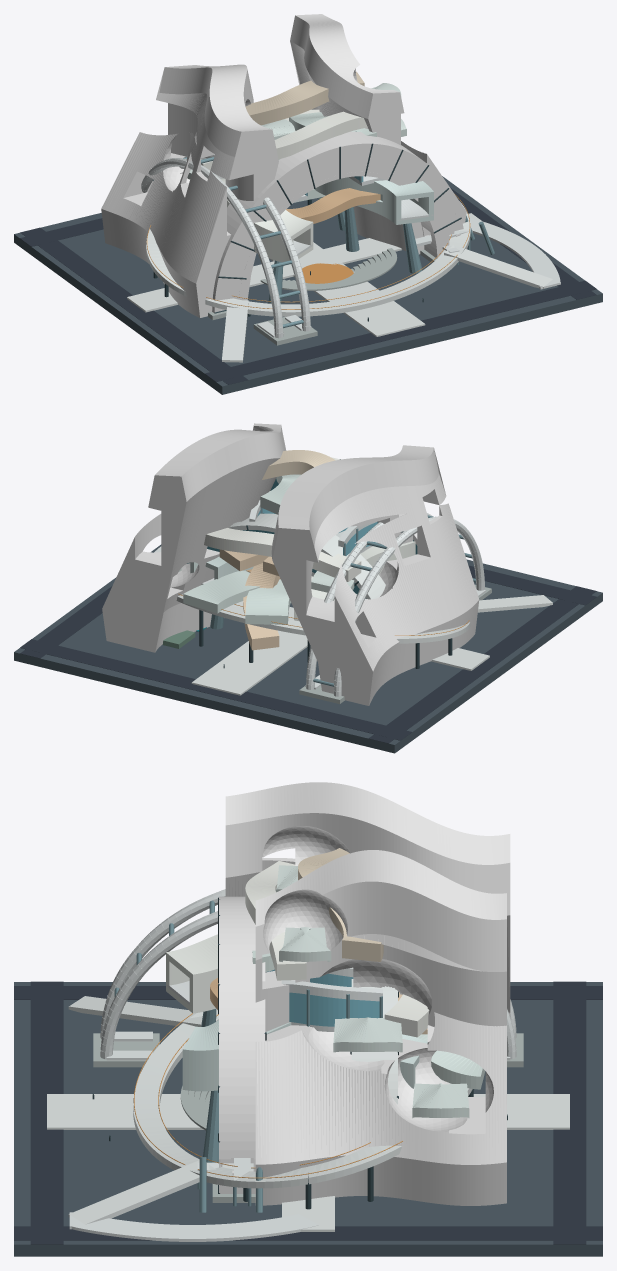
File: a12_exposed_atrium_canyon.glb
3 views of the same model, one above another, from view 1: azimuth 30°, elevation 25°; view 2: azimuth 150°, elevation 25°; view 3: azimuth 270°, elevation 25° (orthographic). The views are drawn at different scales.
Parts seen in each view (by area): view 1: District base, A11_WEST_FAULT_ESCARPMENT_REAL_VOID, A11_EAST_SKY_FOLD_REAL_VOID, SOUTH continuous glazed occupied band_A9_FLARED, Continuous elliptical public promenade, E-W road, SOUTH outer load shell_A7_PORTAL_A9_FLARED, N-S road, Public ground, continuous E-W axis, A10_EAST_INHABITED_TIDAL_SHELL, Public ground, continuous N-S axis, A12_UPPER_UNIFIED_CIVIC_CRESCENT (+15 smaller); view 2: A11_WEST_FAULT_ESCARPMENT_REAL_VOID, District base, A11_EAST_SKY_FOLD_REAL_VOID, E-W road.001, N-S road, Public ground, continuous N-S axis, A11_LOW_FAULT_SKY_BOULEVARD, A11_EAST_OCCUPIED_STRATUM_0, A11_WEST_OCCUPIED_STRATUM_0, Continuous elliptical public promenade, NORTH outer load shell, E-W road (+9 smaller); view 3: A11_EAST_SKY_FOLD_REAL_VOID, District base, A11_WEST_FAULT_ESCARPMENT_REAL_VOID, SOUTH outer load shell_A7_PORTAL_A9_FLARED, E-W road.001, E-W road, Continuous elliptical public promenade, Public ground, continuous N-S axis, N-S road.001, A7_APPROACH_CURVED_DECK, A10_EAST_INHABITED_TIDAL_SHELL, A10_WEST_INHABITED_FAULT_SHELL (+16 smaller).
Part boxes in pixels (<box>): District base: <box>14,176,602,394</box>; A11_WEST_FAULT_ESCARPMENT_REAL_VOID: <box>101,64,278,317</box>; A11_EAST_SKY_FOLD_REAL_VOID: <box>290,14,466,254</box>; SOUTH continuous glazed occupied band_A9_FLARED: <box>218,148,459,311</box>; Continuous elliptical public promenade: <box>146,202,470,316</box>; E-W road: <box>205,280,596,381</box>; SOUTH outer load shell_A7_PORTAL_A9_FLARED: <box>212,131,463,312</box>; N-S road: <box>20,227,247,384</box>; Public ground, continuous E-W axis: <box>127,213,481,312</box>; A10_EAST_INHABITED_TIDAL_SHELL: <box>314,177,433,224</box>; Public ground, continuous N-S axis: <box>269,242,425,336</box>; A12_UPPER_UNIFIED_CIVIC_CRESCENT: <box>245,71,364,125</box>; A11_WEST_FAULT_ESCARPMENT_REAL_VOID: <box>271,445,479,705</box>; District base: <box>14,544,602,753</box>; A11_EAST_SKY_FOLD_REAL_VOID: <box>102,423,286,652</box>; E-W road.001: <box>20,639,411,740</box>; N-S road: <box>368,586,596,743</box>; Public ground, continuous N-S axis: <box>191,630,307,695</box>; A11_LOW_FAULT_SKY_BOULEVARD: <box>204,528,361,581</box>; A11_EAST_OCCUPIED_STRATUM_0: <box>183,570,260,613</box>; A11_WEST_OCCUPIED_STRATUM_0: <box>245,579,290,624</box>; Continuous elliptical public promenade: <box>176,594,470,643</box>; NORTH outer load shell: <box>229,513,385,599</box>; E-W road: <box>468,565,596,605</box>; A11_EAST_SKY_FOLD_REAL_VOID: <box>255,850,506,1205</box>; District base: <box>14,982,602,1256</box>; A11_WEST_FAULT_ESCARPMENT_REAL_VOID: <box>225,782,510,1016</box>; SOUTH outer load shell_A7_PORTAL_A9_FLARED: <box>219,896,265,1193</box>; E-W road.001: <box>553,981,586,1244</box>; E-W road: <box>30,981,63,1244</box>; Continuous elliptical public promenade: <box>133,1009,472,1188</box>; Public ground, continuous N-S axis: <box>47,1094,569,1129</box>; N-S road.001: <box>14,1226,602,1240</box>; A7_APPROACH_CURVED_DECK: <box>69,1212,318,1241</box>; A10_EAST_INHABITED_TIDAL_SHELL: <box>182,1020,427,1091</box>; A10_WEST_INHABITED_FAULT_SHELL: <box>166,934,217,1013</box>.
Size of the model in its own units: 188 by 98.06 by 178.
